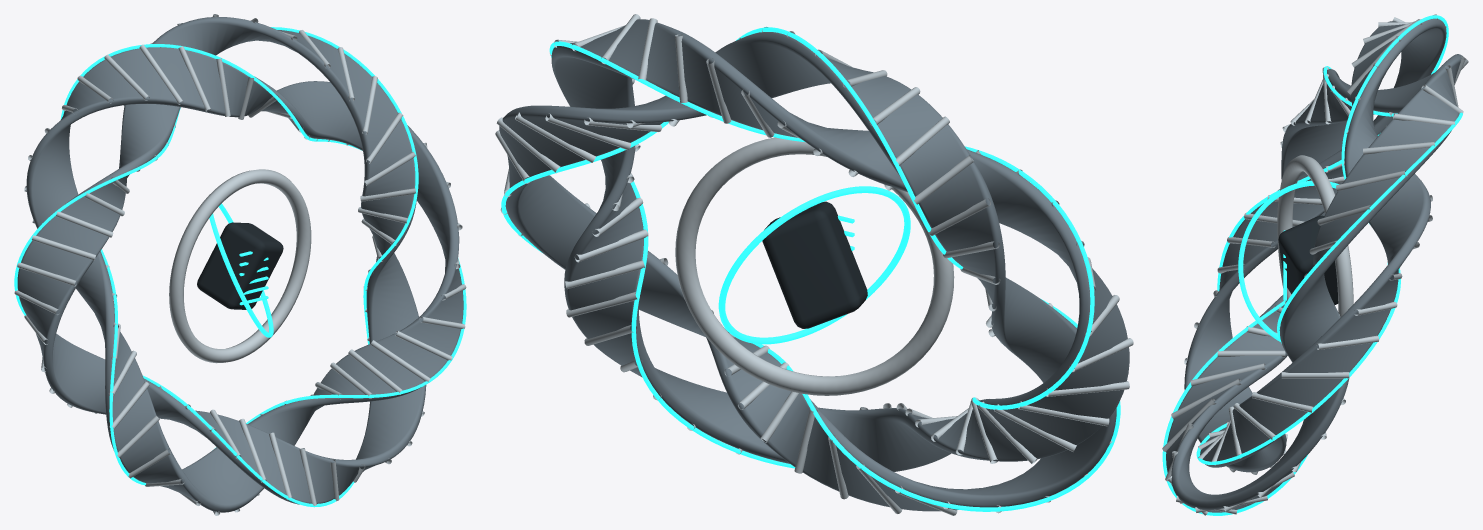
The model's file is hero-sculpture.glb.
3 views of the same model, side by side, from view 1: azimuth 30°, elevation 25°; view 2: azimuth 150°, elevation 25°; view 3: azimuth 270°, elevation 25° (orthographic). The views are drawn at different scales.
Parts seen in each view (by area): view 1: Hero_Titanium_Ribbon_1, Hero_Titanium_Ribbon_0, Inner gyro, Compute core, Illuminated ribbon seam 1, Illuminated ribbon seam 0, Inner signal; view 2: Hero_Titanium_Ribbon_0, Hero_Titanium_Ribbon_1, Inner gyro, Compute core, Illuminated ribbon seam 0, Illuminated ribbon seam 1, Inner signal; view 3: Hero_Titanium_Ribbon_1, Hero_Titanium_Ribbon_0, Inner gyro, Illuminated ribbon seam 0, Illuminated ribbon seam 1, Compute core, Inner signal, Machined cross rib, Machined cross rib.052, Machined cross rib.075, Machined cross rib.051, Machined cross rib.076 (+4 smaller).
Boxes of the visible parts, x1,y1,x2,y2 form: Hero_Titanium_Ribbon_1: (17,17,426,504); Hero_Titanium_Ribbon_0: (26,47,463,512); Inner gyro: (169,169,311,363); Compute core: (197,222,283,309); Illuminated ribbon seam 1: (14,27,418,507); Illuminated ribbon seam 0: (60,44,466,485); Inner signal: (209,203,273,337); Hero_Titanium_Ribbon_0: (499,32,1116,511); Hero_Titanium_Ribbon_1: (551,19,1129,471); Inner gyro: (675,137,954,395); Compute core: (762,201,867,328); Illuminated ribbon seam 0: (501,27,1120,511); Illuminated ribbon seam 1: (549,41,1094,468); Inner signal: (718,186,910,344); Hero_Titanium_Ribbon_1: (1166,54,1463,512); Hero_Titanium_Ribbon_0: (1184,18,1446,472); Inner gyro: (1277,155,1353,316); Illuminated ribbon seam 0: (1196,15,1448,464); Illuminated ribbon seam 1: (1162,66,1462,515); Compute core: (1278,215,1338,304); Inner signal: (1238,180,1387,341); Machined cross rib: (1281,372,1349,378); Machined cross rib.052: (1363,142,1435,154); Machined cross rib.075: (1217,350,1285,357); Machined cross rib.051: (1336,170,1407,191); Machined cross rib.076: (1190,363,1266,386).
Bounding box in the file's own units: 3.65 × 3.28 × 2.08.
